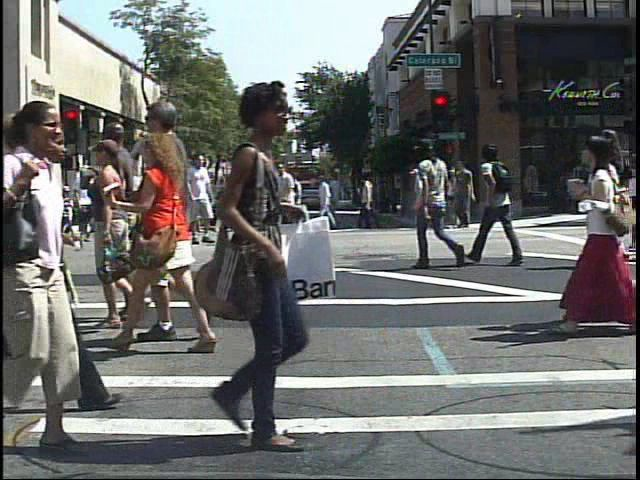person: (184, 78, 306, 460), (1, 93, 121, 464), (122, 121, 232, 358), (126, 96, 198, 350), (556, 120, 636, 347), (471, 137, 533, 272), (405, 129, 463, 273), (597, 127, 627, 342), (179, 152, 215, 248), (122, 161, 152, 244), (136, 159, 167, 239), (407, 160, 436, 233), (74, 163, 96, 246), (49, 183, 75, 245), (85, 183, 105, 224)
